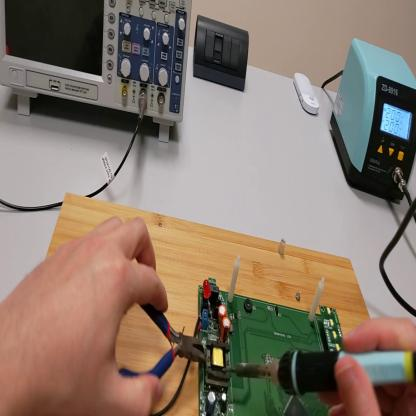hand: (2, 213, 173, 415), (320, 318, 416, 416)
low voltage board: (141, 261, 354, 412)
oscilloscope: (1, 3, 192, 145)
pliers: (120, 307, 208, 383)
welder probe tip: (223, 347, 415, 396)
welder station: (330, 36, 416, 204)
working area: (45, 191, 369, 410)
